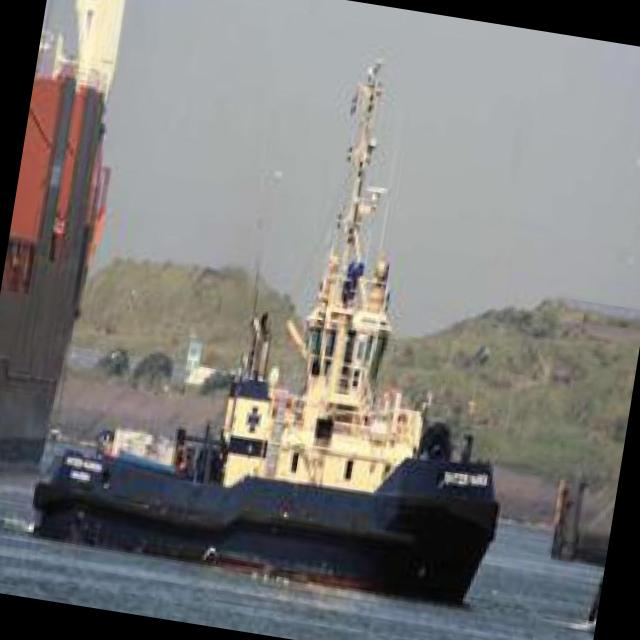boat: (19, 242, 546, 614)
